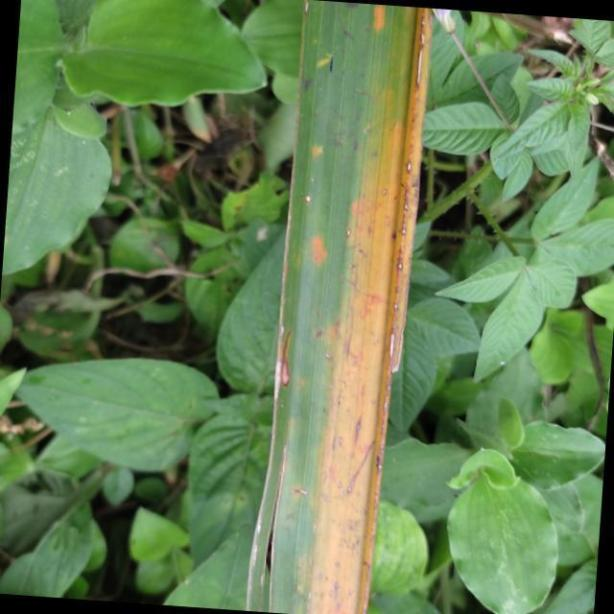Megnesium: (245, 0, 433, 614)
